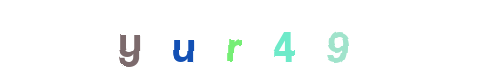4: (208, 0, 288, 80)
9: (268, 0, 348, 80)
R: (192, 0, 272, 80)
U: (143, 0, 223, 80)
Y: (89, 0, 169, 80)
